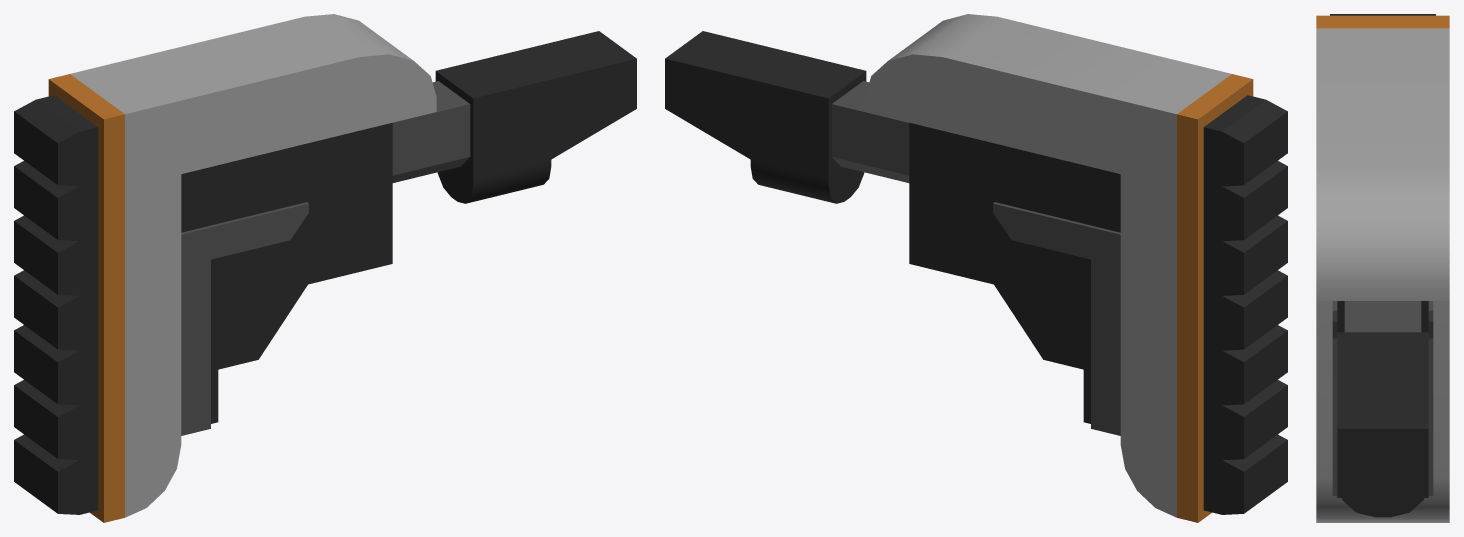
The model's file is Stock_Grenade_1.glb.
3 views of the same model, side by side, from view 1: azimuth 30°, elevation 25°; view 2: azimuth 150°, elevation 25°; view 3: azimuth 270°, elevation 25° (orthographic). The views are drawn at different scales.
Parts seen in each view (by area): view 1: Stock_Grenade_1; view 2: Stock_Grenade_1; view 3: Stock_Grenade_1.
Boxes of the visible parts, x1=… form: Stock_Grenade_1: x1=14, y1=14, x2=636, y2=522; Stock_Grenade_1: x1=665, y1=14, x2=1287, y2=522; Stock_Grenade_1: x1=1316, y1=14, x2=1449, y2=522.
Bounding box in the file's own units: 0.6669 × 0.4418 × 0.1094.
